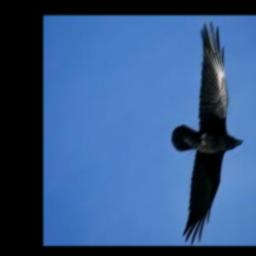Crow: (171, 23, 244, 246)
